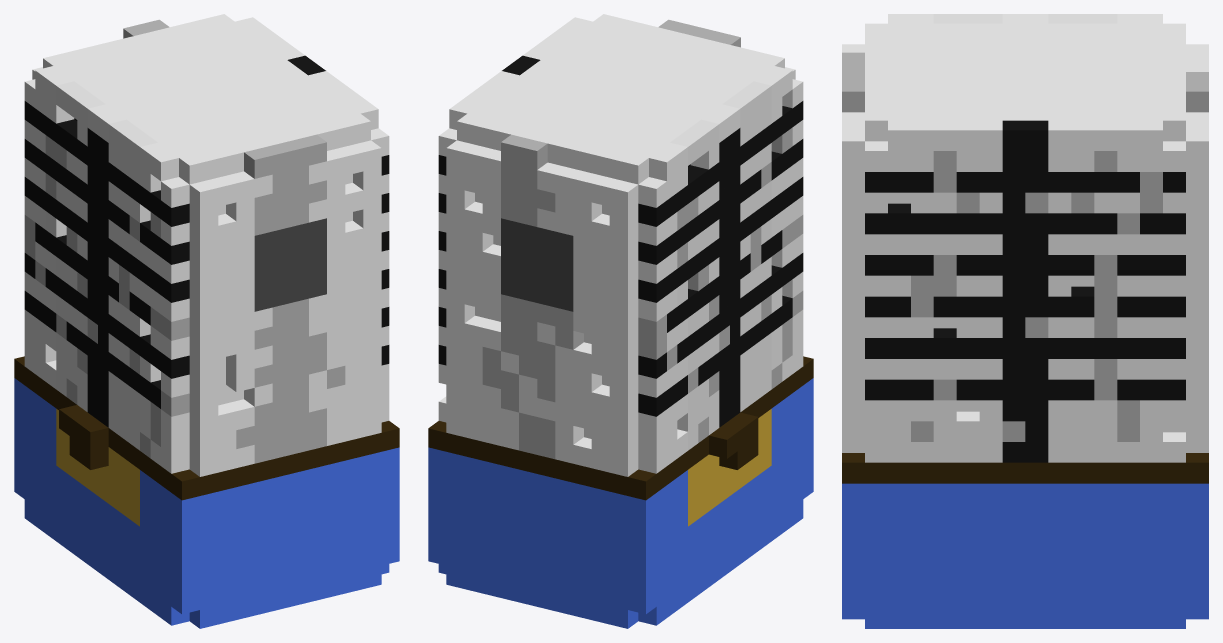
File: Skeleton_Body1.fbx
The picture shows the model from 3 angles, left to right: view 1: azimuth 30°, elevation 25°; view 2: azimuth 150°, elevation 25°; view 3: azimuth 270°, elevation 25°; orthographic projection. The views are drawn at different scales.
Visible parts, largest first — view 1: Body; view 2: Body; view 3: Body.
Boxes of the visible parts, x1=… form: Body: x1=14, y1=14, x2=399, y2=628; Body: x1=428, y1=14, x2=813, y2=628; Body: x1=842, y1=14, x2=1208, y2=628.
Size of the model in its own units: 130 by 240 by 160.
